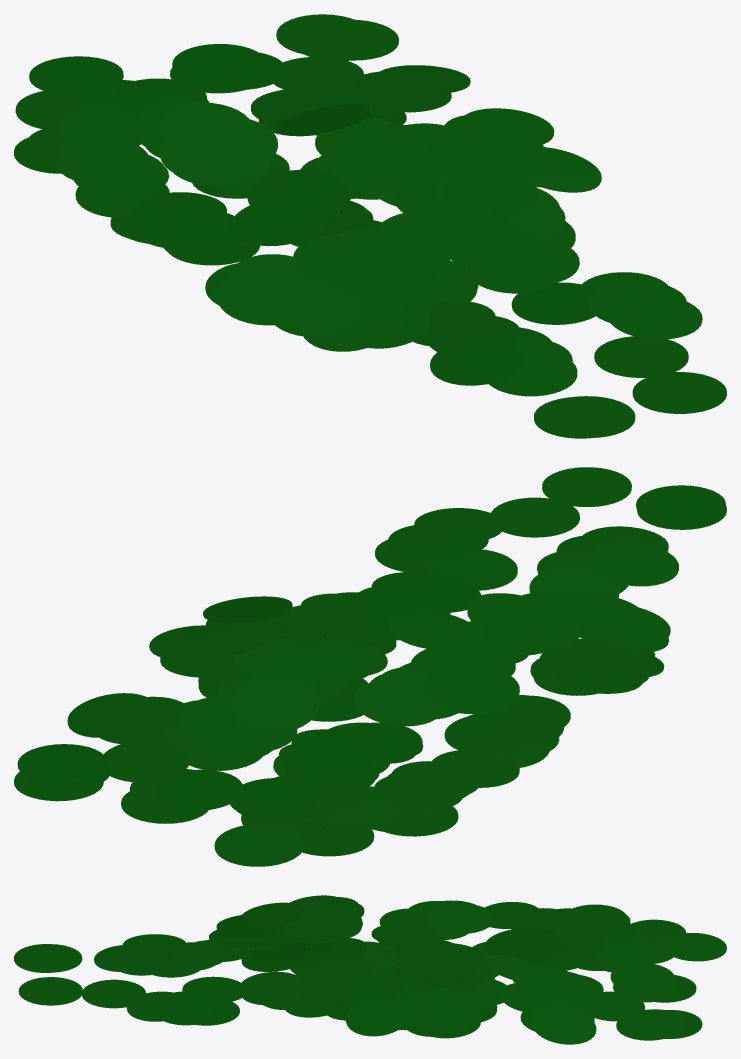
The model's file is Coins.fbx.
3 views of the same model, one above another, from view 1: azimuth 30°, elevation 25°; view 2: azimuth 150°, elevation 25°; view 3: azimuth 270°, elevation 25° (orthographic). The views are drawn at different scales.
Parts seen in each view (by area): view 1: Coin001_inst000_LP189, Coin001_inst000_LP081, Coin001_inst000_LP133, Coin001_inst000_LP178, Coin001_inst000_LP040, Coin001_inst000_LP111, Coin001_inst000_LP175, Coin001_inst000_LP093, Coin001_inst000_LP045, Coin001_inst000_LP047, Coin001_inst000_LP094, Coin001_inst000_LP011 (+54 smaller); view 2: Coin001_inst000_LP030, Coin001_inst000_LP175, Coin001_inst000_LP083, Coin001_inst000_LP093, Coin001_inst000_LP006, Coin001_inst000_LP170, Coin001_inst000_LP026, Coin001_inst000_LP002, Coin001_inst000_LP047, Coin001_inst000_LP094, Coin001_inst000_LP046, Coin001_inst000_LP133 (+53 smaller); view 3: Coin001_inst000_LP011, Coin001_inst000_LP006, Coin001_inst000_LP104, Coin001_inst000_LP026, Coin001_inst000_LP045, Coin001_inst000_LP002, Coin001_inst000_LP170, Coin001_inst000_LP094, Coin001_inst000_LP047, Coin001_inst000_LP083, Coin001_inst000_LP040, Coin001_inst000_LP046 (+66 smaller).
Part boxes in pixels (box(x1,y1,x2,y2)): Coin001_inst000_LP189: box(267, 282, 361, 336); Coin001_inst000_LP081: box(166, 132, 260, 186); Coin001_inst000_LP133: box(326, 130, 421, 180); Coin001_inst000_LP178: box(293, 233, 387, 283); Coin001_inst000_LP040: box(485, 237, 579, 285); Coin001_inst000_LP111: box(443, 168, 537, 215); Coin001_inst000_LP175: box(231, 199, 325, 246); Coin001_inst000_LP093: box(430, 339, 524, 385); Coin001_inst000_LP045: box(608, 294, 702, 339); Coin001_inst000_LP047: box(632, 372, 726, 413); Coin001_inst000_LP094: box(541, 396, 635, 437); Coin001_inst000_LP011: box(509, 147, 601, 192); Coin001_inst000_LP030: box(230, 673, 319, 733); Coin001_inst000_LP175: box(430, 664, 519, 709); Coin001_inst000_LP083: box(214, 824, 304, 866); Coin001_inst000_LP093: box(589, 542, 678, 586); Coin001_inst000_LP006: box(67, 693, 156, 737); Coin001_inst000_LP170: box(444, 713, 534, 754); Coin001_inst000_LP026: box(153, 769, 243, 810); Coin001_inst000_LP002: box(17, 744, 107, 783); Coin001_inst000_LP047: box(542, 467, 631, 506); Coin001_inst000_LP094: box(636, 485, 725, 524); Coin001_inst000_LP046: box(491, 497, 579, 537); Coin001_inst000_LP133: box(285, 643, 374, 681); Coin001_inst000_LP011: box(345, 997, 409, 1036); Coin001_inst000_LP006: box(532, 1009, 596, 1044); Coin001_inst000_LP104: box(407, 988, 471, 1022); Coin001_inst000_LP026: box(610, 962, 674, 992); Coin001_inst000_LP045: box(126, 991, 190, 1021); Coin001_inst000_LP002: box(616, 1011, 680, 1040); Coin001_inst000_LP170: box(428, 904, 492, 933); Coin001_inst000_LP094: box(14, 944, 77, 972); Coin001_inst000_LP047: box(18, 977, 82, 1005); Coin001_inst000_LP083: box(662, 933, 726, 961); Coin001_inst000_LP040: box(240, 976, 304, 1005); Coin001_inst000_LP046: box(82, 979, 145, 1008).
Size of the model in its own units: 0.1568 by 0.0145 by 0.333.
